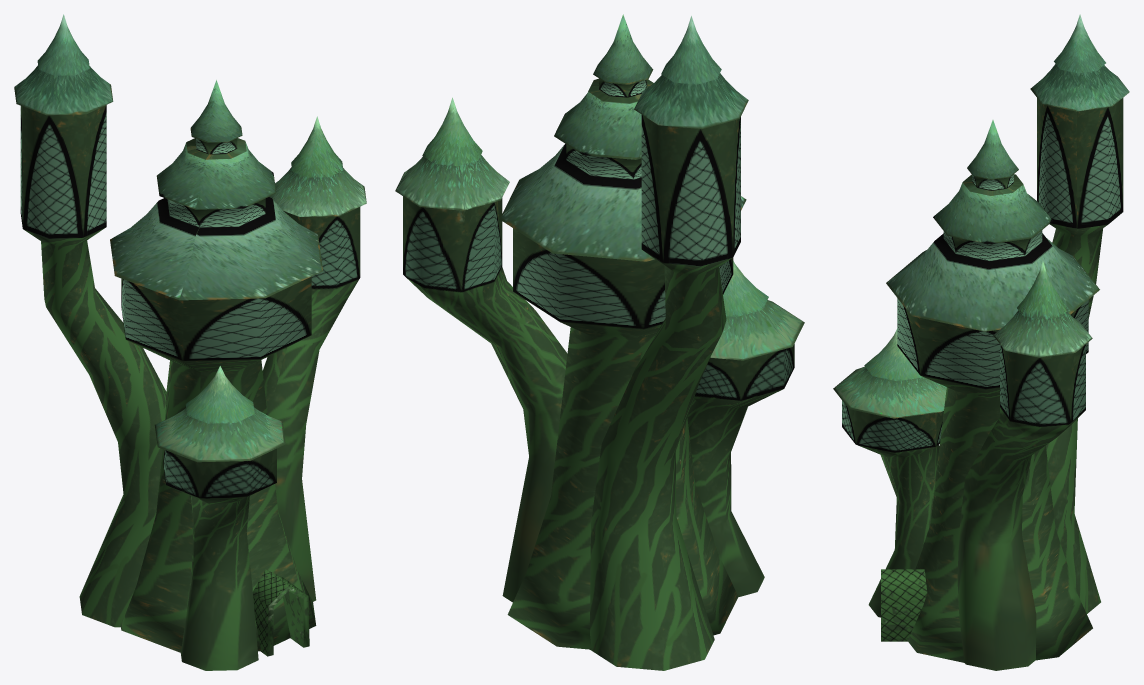
File: castle.fbx
3 renders of one model, left to right at view 1: azimuth 30°, elevation 25°; view 2: azimuth 150°, elevation 25°; view 3: azimuth 270°, elevation 25°, orthographic. The views are drawn at different scales.
Visible parts, largest first — view 1: pCylinder1, pCylinder4, pCylinder2, pCylinder3, pCube1; view 2: pCylinder1, pCylinder4, pCylinder3, pCylinder2; view 3: pCylinder1, pCylinder3, pCylinder4, pCylinder2, pCube1.
Part boxes in pixels (bbox=[...]): pCylinder1: bbox=[110, 80, 322, 652]; pCylinder4: bbox=[14, 14, 166, 627]; pCylinder2: bbox=[154, 366, 285, 670]; pCylinder3: bbox=[262, 116, 366, 601]; pCube1: bbox=[253, 569, 309, 656]; pCylinder1: bbox=[499, 14, 746, 649]; pCylinder4: bbox=[590, 16, 748, 670]; pCylinder3: bbox=[395, 97, 567, 602]; pCylinder2: bbox=[687, 261, 804, 597]; pCylinder1: bbox=[886, 120, 1099, 662]; pCylinder3: bbox=[957, 261, 1092, 670]; pCylinder4: bbox=[1030, 14, 1129, 613]; pCylinder2: bbox=[833, 329, 946, 617]; pCube1: bbox=[881, 569, 927, 641].
Bounding box in the file's own units: 40.21 × 69.89 × 33.44.
